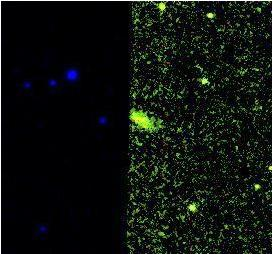star: (243, 172, 272, 202)
